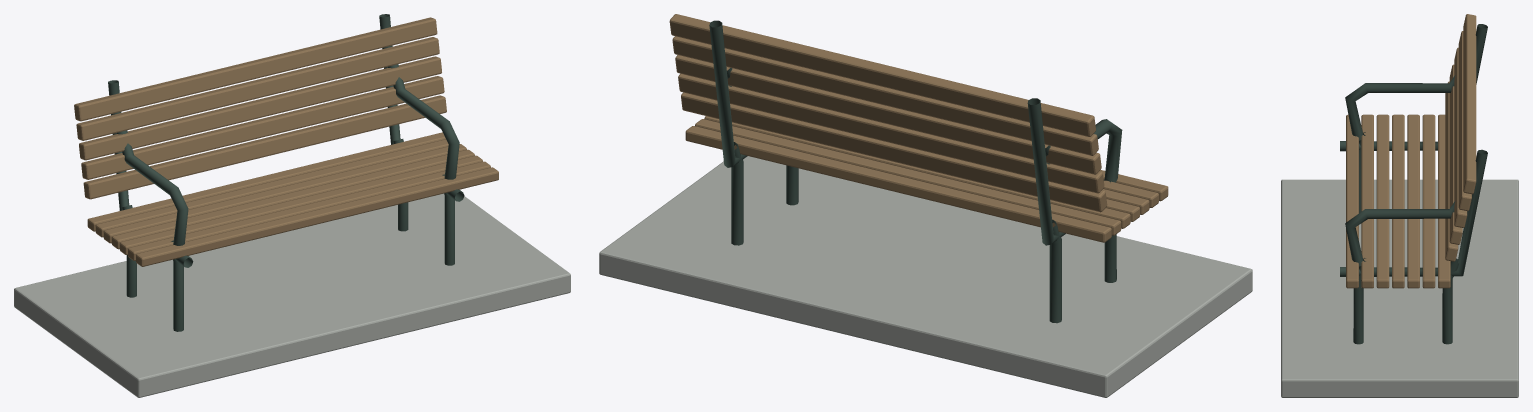
File: elmwood-park-bench.glb
The picture shows the model from 3 angles, left to right: view 1: azimuth 30°, elevation 25°; view 2: azimuth 150°, elevation 25°; view 3: azimuth 270°, elevation 25°; orthographic projection. The views are drawn at different scales.
Parts seen in each view (by area): view 1: Level inset concrete bench pad, Inclined back slat.003, Inclined back slat.004, Inclined back slat.002, Inclined back slat.001, Inclined back slat, Separate seat slat, Separate seat slat.006, Separate seat slat.005, Separate seat slat.004, Separate seat slat.003, Separate seat slat.002 (+7 smaller); view 2: Level inset concrete bench pad, Inclined back slat.004, Inclined back slat, Inclined back slat.001, Inclined back slat.003, Inclined back slat.002, Separate seat slat.006, Separate seat slat.005, Seat frame.001, Seat frame, Separate seat slat.004, Iron leg.001 (+5 smaller); view 3: Level inset concrete bench pad, Inclined back slat.004, Separate seat slat.005, Separate seat slat.002, Separate seat slat.003, Separate seat slat.004, Separate seat slat.001, Separate seat slat, Curved armrest.001, Curved armrest, Separate seat slat.006, Seat frame.001 (+7 smaller).
Part boxes in pixels (x1,y1,x2,y2): Level inset concrete bench pad: [14, 193, 570, 397]; Inclined back slat.003: [76, 37, 439, 140]; Inclined back slat.004: [74, 17, 437, 121]; Inclined back slat.002: [79, 56, 441, 160]; Inclined back slat.001: [81, 76, 444, 179]; Inclined back slat: [83, 95, 446, 199]; Separate seat slat: [136, 167, 498, 266]; Separate seat slat.006: [87, 132, 445, 231]; Separate seat slat.005: [95, 139, 448, 237]; Separate seat slat.004: [103, 144, 466, 243]; Separate seat slat.003: [111, 149, 474, 249]; Separate seat slat.002: [119, 155, 482, 254]; Level inset concrete bench pad: [599, 156, 1252, 397]; Inclined back slat.004: [669, 14, 1095, 136]; Inclined back slat: [681, 92, 1107, 212]; Inclined back slat.001: [678, 73, 1104, 193]; Inclined back slat.003: [672, 36, 1098, 155]; Inclined back slat.002: [675, 55, 1101, 174]; Separate seat slat.006: [685, 126, 1111, 242]; Separate seat slat.005: [695, 119, 1121, 235]; Seat frame.001: [709, 20, 747, 167]; Seat frame: [1027, 98, 1065, 245]; Separate seat slat.004: [704, 116, 1130, 228]; Iron leg.001: [1049, 219, 1061, 323]; Level inset concrete bench pad: [1281, 179, 1518, 397]; Inclined back slat.004: [1463, 14, 1476, 194]; Separate seat slat.005: [1422, 114, 1435, 288]; Separate seat slat.002: [1376, 114, 1389, 288]; Separate seat slat.003: [1392, 114, 1404, 288]; Separate seat slat.004: [1407, 114, 1419, 288]; Separate seat slat.001: [1361, 114, 1373, 288]; Separate seat slat: [1346, 115, 1358, 288]; Curved armrest.001: [1345, 201, 1455, 266]; Curved armrest: [1345, 75, 1455, 140]; Separate seat slat.006: [1438, 114, 1450, 288]; Seat frame.001: [1340, 149, 1487, 276].
Size of the model in its own units: 2.3 by 1.12 by 1.15.
